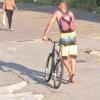bicycles: (44, 36, 66, 90)
